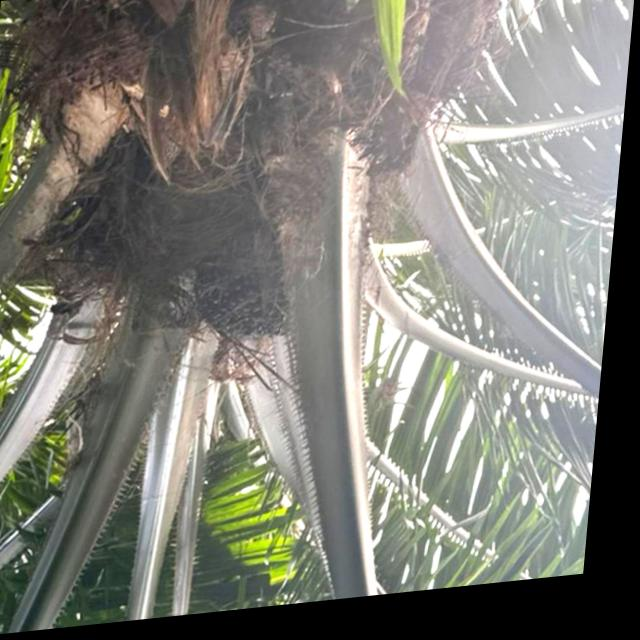unripe: (190, 233, 309, 351)
